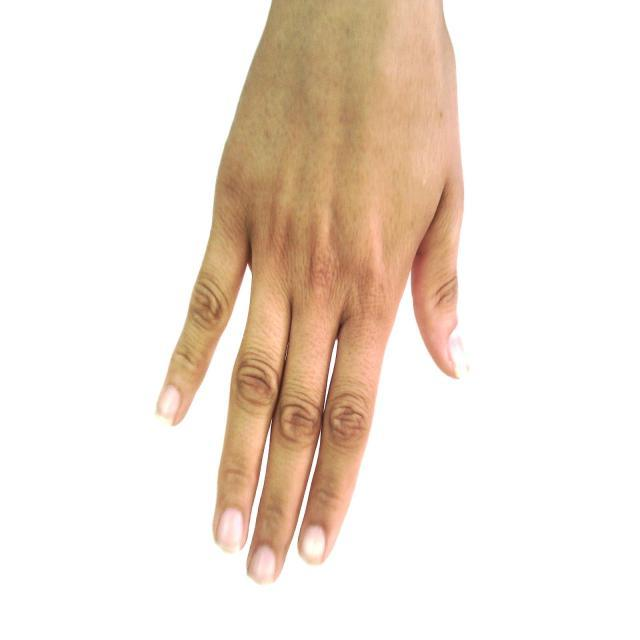Fingernail: (218, 509, 243, 553), (301, 526, 325, 564), (251, 548, 275, 584), (157, 386, 180, 422), (449, 330, 466, 373)
